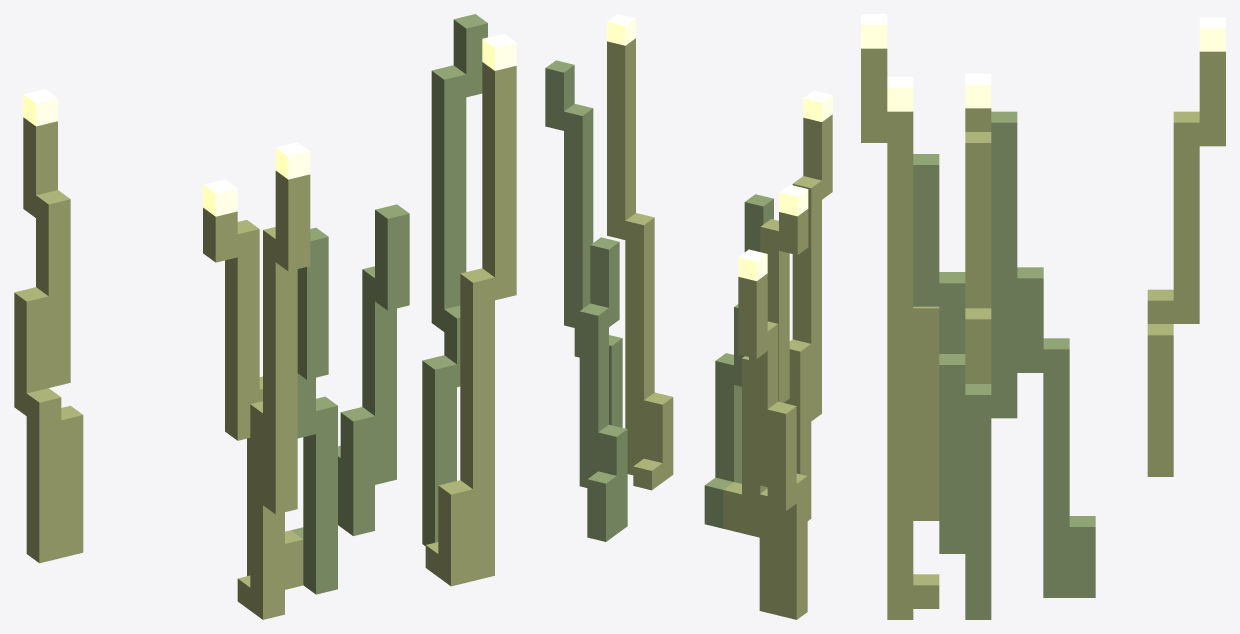
The model's file is marsh_fireflies.glb.
3 views of the same model, side by side, from view 1: azimuth 30°, elevation 25°; view 2: azimuth 150°, elevation 25°; view 3: azimuth 270°, elevation 25° (orthographic). The views are drawn at different scales.
Bounding box in the file's own units: 0.7083 × 0.9583 × 0.5833.
